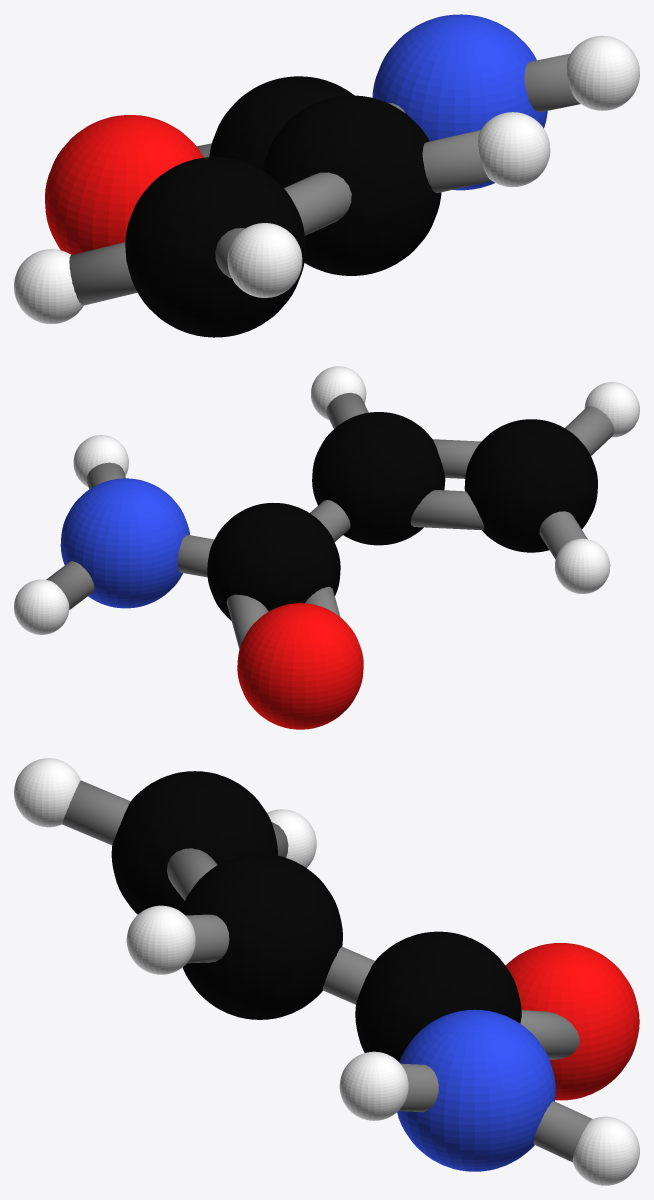
Rendered from ACRILAMIDA.obj.
3 views of the same model, one above another, from view 1: azimuth 30°, elevation 25°; view 2: azimuth 150°, elevation 25°; view 3: azimuth 270°, elevation 25° (orthographic). The views are drawn at different scales.
Visible parts, largest first — view 1: Carbon_ball_Sphere.001, Hydrogen_ball_Sphere, Nitrogen_ball_Sphere.003, Oxygen_ball_Sphere.002, Stick_Cylinder.001_Cylinder.001, Stick_Cylinder.005_Cylinder.005, Stick_Cylinder.002_Cylinder.002, Stick_Cylinder.004_Cylinder.004, Stick_Cylinder_Cylinder; view 2: Carbon_ball_Sphere.001, Oxygen_ball_Sphere.002, Nitrogen_ball_Sphere.003, Hydrogen_ball_Sphere, Stick_Cylinder.010_Cylinder.010, Stick_Cylinder_Cylinder, Stick_Cylinder.001_Cylinder.001, Stick_Cylinder.008_Cylinder.008, Stick_Cylinder.002_Cylinder.002, Stick_Cylinder.007_Cylinder.007, Stick_Cylinder.003_Cylinder.003, Stick_Cylinder.006_Cylinder.006 (+3 smaller); view 3: Carbon_ball_Sphere.001, Nitrogen_ball_Sphere.003, Hydrogen_ball_Sphere, Oxygen_ball_Sphere.002, Stick_Cylinder_Cylinder, Stick_Cylinder.008_Cylinder.008, Stick_Cylinder.003_Cylinder.003, Stick_Cylinder.006_Cylinder.006, Stick_Cylinder.005_Cylinder.005, Stick_Cylinder.002_Cylinder.002, Stick_Cylinder.004_Cylinder.004.
Part boxes in pixels (x1,y1,x2,y2): Carbon_ball_Sphere.001: (125, 76, 441, 337); Hydrogen_ball_Sphere: (14, 35, 639, 324); Nitrogen_ball_Sphere.003: (372, 14, 547, 190); Oxygen_ball_Sphere.002: (45, 115, 203, 254); Stick_Cylinder.001_Cylinder.001: (69, 242, 137, 305); Stick_Cylinder.005_Cylinder.005: (422, 130, 491, 193); Stick_Cylinder.002_Cylinder.002: (284, 172, 351, 235); Stick_Cylinder.004_Cylinder.004: (524, 53, 580, 112); Stick_Cylinder_Cylinder: (215, 228, 244, 278); Carbon_ball_Sphere.001: (207, 412, 597, 620); Oxygen_ball_Sphere.002: (237, 603, 363, 729); Nitrogen_ball_Sphere.003: (60, 478, 189, 608); Hydrogen_ball_Sphere: (14, 366, 639, 634); Stick_Cylinder.010_Cylinder.010: (410, 490, 484, 530); Stick_Cylinder_Cylinder: (565, 406, 614, 455); Stick_Cylinder.001_Cylinder.001: (539, 511, 587, 559); Stick_Cylinder.008_Cylinder.008: (46, 561, 94, 609); Stick_Cylinder.002_Cylinder.002: (433, 439, 481, 478); Stick_Cylinder.007_Cylinder.007: (177, 534, 214, 577); Stick_Cylinder.003_Cylinder.003: (226, 594, 268, 649); Stick_Cylinder.006_Cylinder.006: (310, 500, 350, 541); Carbon_ball_Sphere.001: (111, 771, 521, 1061); Nitrogen_ball_Sphere.003: (397, 1009, 555, 1171); Hydrogen_ball_Sphere: (14, 758, 639, 1185); Oxygen_ball_Sphere.002: (505, 943, 639, 1100); Stick_Cylinder_Cylinder: (62, 780, 130, 845); Stick_Cylinder.008_Cylinder.008: (533, 1101, 592, 1162); Stick_Cylinder.003_Cylinder.003: (520, 1010, 579, 1059); Stick_Cylinder.006_Cylinder.006: (322, 946, 374, 1004); Stick_Cylinder.005_Cylinder.005: (185, 914, 229, 963); Stick_Cylinder.002_Cylinder.002: (167, 848, 217, 900); Stick_Cylinder.004_Cylinder.004: (399, 1063, 438, 1112).
Size of the model in its own units: 5.9 by 2.46 by 5.21.
